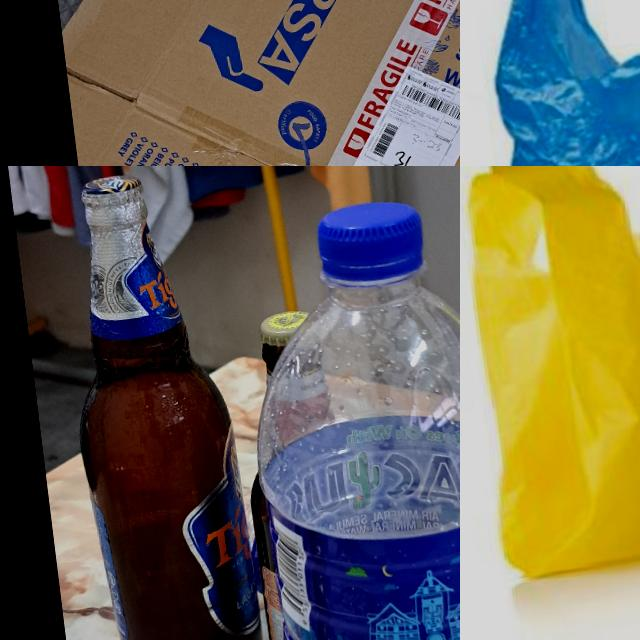garrafa de vidro: (44, 166, 269, 640), (229, 306, 363, 640)
garrafa plástica: (233, 263, 460, 640)
papelão: (38, 0, 460, 166)
sacola plástica: (460, 166, 640, 589), (460, 0, 640, 166)
tampa plástica: (309, 196, 427, 283)
